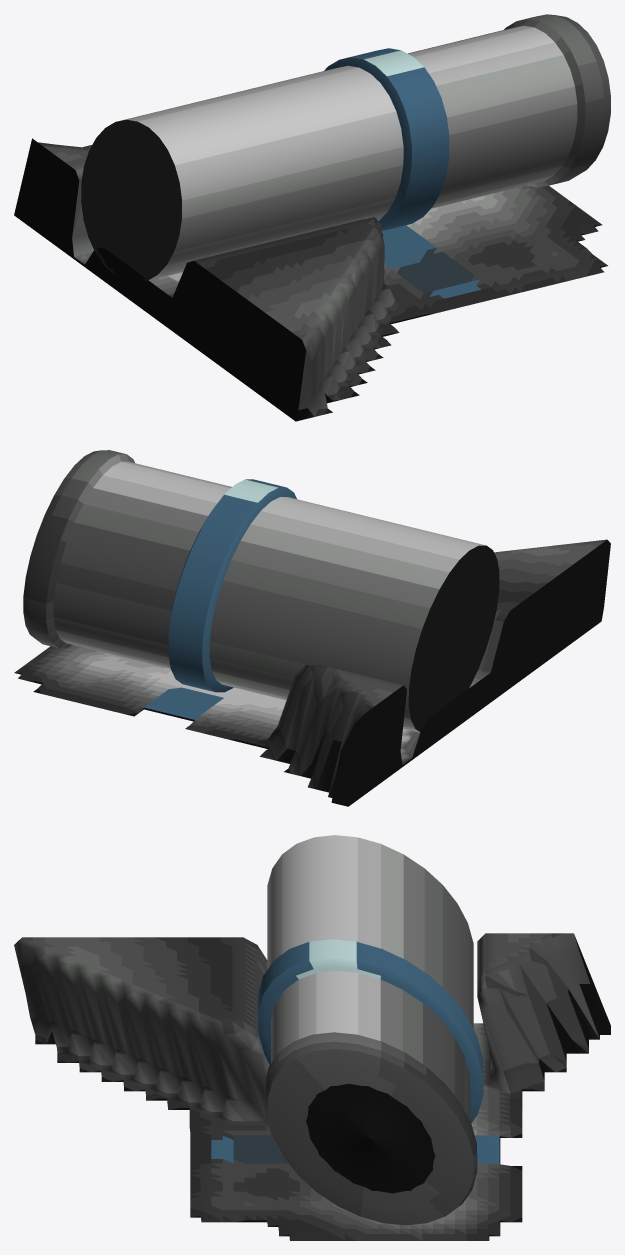
The model's file is cannon_barrel_r_207.glb.
The picture shows the model from 3 angles, top to bottom: view 1: azimuth 30°, elevation 25°; view 2: azimuth 150°, elevation 25°; view 3: azimuth 270°, elevation 25°; orthographic projection. The views are drawn at different scales.
Visible parts, largest first — view 1: cannon_barrel_r_207; view 2: cannon_barrel_r_207; view 3: cannon_barrel_r_207.
Part boxes in pixels (x1,y1,x2,y2): cannon_barrel_r_207: [14, 14, 610, 421]; cannon_barrel_r_207: [14, 450, 610, 806]; cannon_barrel_r_207: [14, 835, 610, 1240].
Size of the model in its own units: 23.03 by 9.9 by 26.96.
